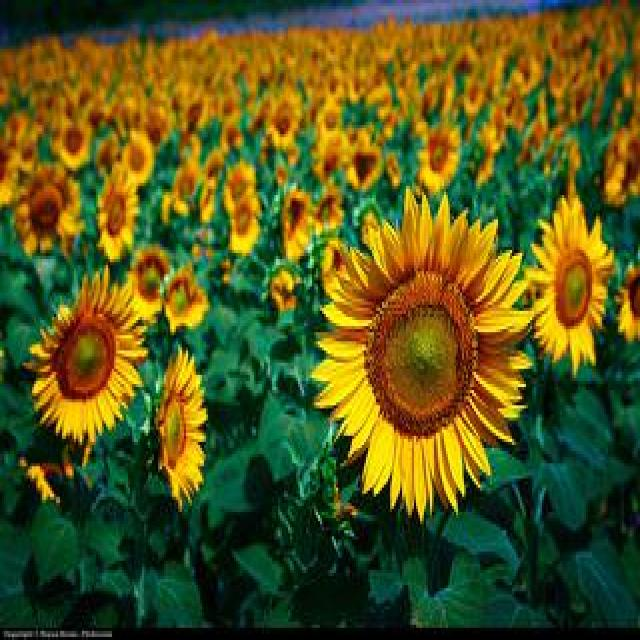sunflower: (310, 190, 534, 516), (31, 265, 145, 445), (525, 195, 617, 375), (156, 344, 209, 510), (17, 166, 81, 264), (100, 159, 138, 262), (128, 250, 170, 318), (417, 125, 460, 190), (606, 128, 640, 204), (168, 264, 206, 328), (282, 189, 314, 259), (614, 264, 640, 337), (230, 195, 260, 253), (56, 117, 89, 168), (225, 161, 257, 212), (348, 142, 383, 188), (268, 102, 302, 148), (0, 141, 18, 209), (317, 188, 343, 230), (172, 161, 198, 202)
